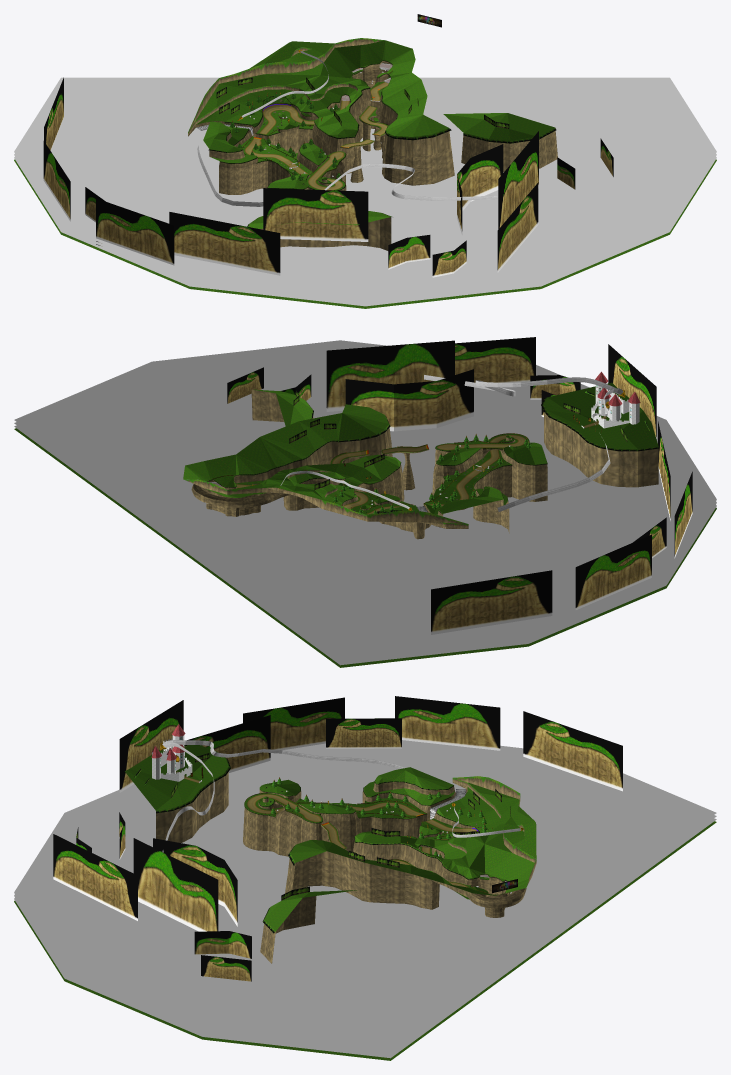
3 renders of one model, top to bottom at view 1: azimuth 30°, elevation 25°; view 2: azimuth 150°, elevation 25°; view 3: azimuth 270°, elevation 25°, orthographic. The views are drawn at different scales.
Visible parts, largest first — view 1: Polygon.009, Polygon.001, Polygon.004, Polygon.005, Polygon.006, Polygon.020, Polygon.021, Polygon.007, Polygon.017, Polygon.018; view 2: Polygon.009, Polygon.001, Polygon.004, Polygon.005, Polygon.006, Polygon.007, Polygon.020, Polygon.021, Polygon.025, Polygon.018, Polygon.017; view 3: Polygon.009, Polygon.001, Polygon.004, Polygon.005, Polygon.007, Polygon.021, Polygon.020, Polygon.006, Polygon.018, Polygon.025, Polygon.017.
Part boxes in pixels (box(x1,y1,x2,y2)): Polygon.009: box(14, 77, 716, 306); Polygon.001: box(43, 77, 613, 277); Polygon.004: box(14, 40, 716, 308); Polygon.005: box(188, 61, 557, 250); Polygon.006: box(188, 38, 385, 181); Polygon.020: box(244, 82, 388, 190); Polygon.021: box(208, 60, 556, 226); Polygon.007: box(197, 50, 498, 206); Polygon.017: box(230, 92, 340, 181); Polygon.018: box(216, 70, 509, 187); Polygon.009: box(14, 340, 716, 665); Polygon.001: box(227, 337, 692, 634); Polygon.004: box(14, 382, 716, 667); Polygon.005: box(191, 389, 658, 539); Polygon.006: box(184, 449, 468, 528); Polygon.007: box(280, 375, 623, 511); Polygon.020: box(236, 416, 606, 513); Polygon.021: box(207, 390, 658, 514); Polygon.025: box(207, 383, 639, 503); Polygon.018: box(247, 390, 627, 514); Polygon.017: box(331, 434, 531, 514); Polygon.009: box(14, 740, 716, 1058); Polygon.001: box(53, 696, 622, 981); Polygon.004: box(14, 745, 716, 1060); Polygon.005: box(156, 772, 526, 963); Polygon.007: box(162, 740, 520, 852); Polygon.021: box(134, 745, 507, 933); Polygon.020: box(176, 771, 477, 887); Polygon.006: box(265, 776, 536, 886); Polygon.018: box(171, 753, 510, 900); Polygon.025: box(152, 735, 505, 897); Polygon.017: box(270, 777, 486, 857).
Size of the model in its own units: 252000 by 44549 by 235119.
Materials: 26 (26 with a texture image).
